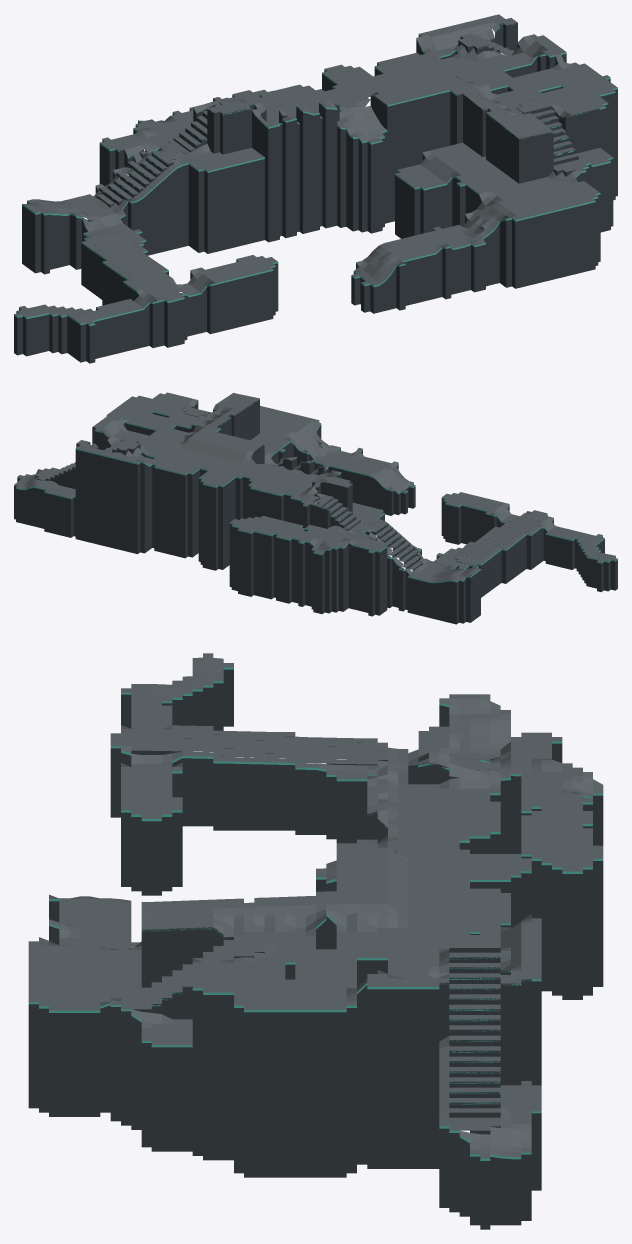
File: stage1_clean.glb
3 renders of one model, top to bottom at view 1: azimuth 30°, elevation 25°; view 2: azimuth 150°, elevation 25°; view 3: azimuth 270°, elevation 25°, orthographic. The views are drawn at different scales.
Parts seen in each view (by area): view 1: chunk_-1_-1, chunk_0_-1, chunk_1_1, chunk_-2_-1, chunk_1_0, chunk_1_-1, chunk_2_0, chunk_0_1, chunk_-3_-1, chunk_-2_1, chunk_-3_1, chunk_2_-1 (+12 smaller); view 2: chunk_-1_-2, chunk_2_-2, chunk_-2_-2, chunk_1_-2, chunk_0_-2, chunk_-3_0, chunk_1_-1, chunk_3_-2, chunk_2_-1, chunk_1_0, chunk_0_1, chunk_0_-1 (+11 smaller); view 3: chunk_2_-1, chunk_2_0, chunk_3_0, chunk_1_-1, chunk_2_1, chunk_0_-2, chunk_-1_-2, chunk_-2_0, chunk_1_0, chunk_-3_0, chunk_3_-1, chunk_1_1 (+13 smaller).
Part boxes in pixels (<box>): chunk_-1_-1: <box>166,97,299,253</box>; chunk_0_-1: <box>252,82,404,233</box>; chunk_1_1: <box>471,129,599,288</box>; chunk_-2_-1: <box>71,148,204,255</box>; chunk_1_0: <box>420,91,549,228</box>; chunk_1_-1: <box>260,54,507,167</box>; chunk_2_0: <box>489,70,617,200</box>; chunk_0_1: <box>379,212,493,305</box>; chunk_-3_-1: <box>25,203,135,298</box>; chunk_-2_1: <box>189,256,278,334</box>; chunk_-3_1: <box>74,286,195,356</box>; chunk_2_-1: <box>450,34,594,94</box>; chunk_-1_-2: <box>230,492,354,614</box>; chunk_2_-2: <box>57,440,145,553</box>; chunk_-2_-2: <box>332,529,429,617</box>; chunk_1_-2: <box>136,457,212,564</box>; chunk_0_-2: <box>201,471,283,596</box>; chunk_-3_0: <box>470,517,581,586</box>; chunk_1_-1: <box>133,424,315,553</box>; chunk_3_-2: <box>14,471,75,537</box>; chunk_2_-1: <box>68,409,188,469</box>; chunk_1_0: <box>189,394,290,464</box>; chunk_0_1: <box>302,438,391,507</box>; chunk_0_-1: <box>233,444,314,519</box>; chunk_2_-1: <box>316,927,500,1173</box>; chunk_2_0: <box>151,927,315,1173</box>; chunk_3_0: <box>244,1010,346,1177</box>; chunk_1_-1: <box>316,784,480,966</box>; chunk_2_1: <box>28,987,151,1147</box>; chunk_0_-2: <box>470,801,603,999</box>; chunk_-1_-2: <box>480,754,603,871</box>; chunk_-2_0: <box>162,761,315,891</box>; chunk_1_0: <box>151,896,315,982</box>; chunk_-3_0: <box>151,701,315,826</box>; chunk_3_-1: <box>439,1061,500,1225</box>; chunk_1_1: <box>28,902,151,1010</box>.
Bounding box in the file's own units: 59.5 × 10.29 × 28.
